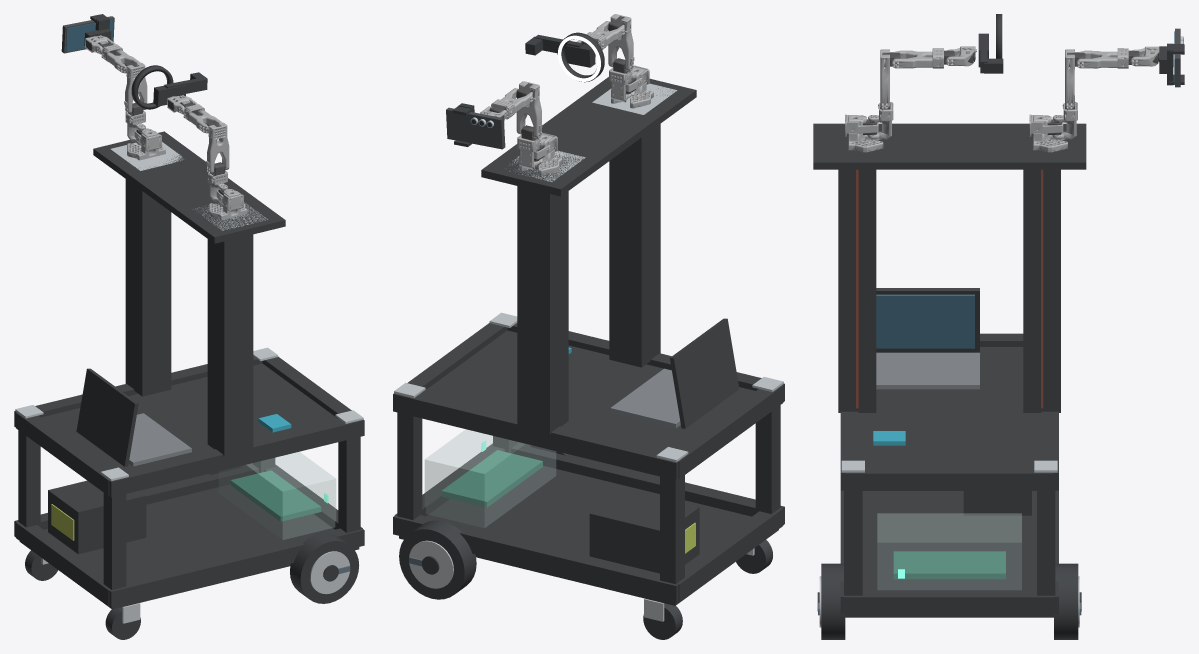
File: take-one-ring.glb
The picture shows the model from 3 angles, left to right: view 1: azimuth 30°, elevation 25°; view 2: azimuth 150°, elevation 25°; view 3: azimuth 270°, elevation 25°; orthographic projection. The views are drawn at different scales.
Visible parts, largest first — view 1: cart_box, upright_rear, upright_front, cart_work_deck, electronics_box, cart_deck, frame_side_0.25_0.49, frame_side_0.25_0.15, battery, laptop_lid, frame_end_-0.39_0.15, frame_end_-0.39_0.49 (+22 smaller); view 2: upright_front, cart_work_deck, upright_rear, cart_box, electronics_box, cart_deck, frame_side_-0.25_0.49, frame_side_-0.25_0.15, battery, laptop_lid, frame_side_0.25_0.15, frame_end_-0.39_0.15 (+22 smaller); view 3: cart_work_deck, cart_box, electronics_box, cart_deck, upright_rear, upright_front, laptop_screen, frame_end_0.39_0.15, frame_end_0.39_0.49, laptop_keyboard, electronics_board, corner_leg_-0.24_0.38 (+16 smaller).
Part boxes in pixels (x1,y1,x2,y2): cart_box: [19, 484, 359, 609]; upright_rear: [207, 234, 253, 456]; upright_front: [125, 179, 171, 396]; cart_work_deck: [41, 363, 337, 471]; electronics_box: [219, 452, 335, 539]; cart_deck: [93, 131, 285, 243]; frame_side_0.25_0.49: [104, 419, 364, 497]; frame_side_0.25_0.15: [109, 528, 364, 607]; battery: [48, 480, 146, 554]; laptop_lid: [76, 368, 138, 466]; frame_end_-0.39_0.15: [16, 522, 110, 605]; frame_end_-0.39_0.49: [16, 412, 110, 495]; upright_front: [517, 186, 568, 434]; cart_work_deck: [422, 330, 754, 450]; upright_rear: [609, 124, 660, 367]; cart_box: [399, 466, 778, 605]; electronics_box: [425, 429, 555, 527]; cart_deck: [481, 77, 696, 196]; frame_side_-0.25_0.49: [393, 392, 682, 480]; frame_side_-0.25_0.15: [393, 514, 678, 603]; battery: [589, 489, 699, 573]; laptop_lid: [670, 318, 739, 428]; frame_side_0.25_0.15: [511, 442, 784, 524]; frame_end_-0.39_0.15: [676, 508, 783, 601]; cart_work_deck: [858, 347, 1041, 465]; cart_box: [845, 491, 1053, 617]; electronics_box: [877, 513, 1021, 589]; cart_deck: [813, 123, 1086, 169]; upright_rear: [838, 169, 876, 412]; upright_front: [1023, 169, 1060, 412]; laptop_screen: [876, 294, 974, 348]; frame_end_0.39_0.15: [845, 589, 1053, 614]; frame_end_0.39_0.49: [845, 466, 1053, 490]; laptop_keyboard: [876, 352, 979, 389]; electronics_board: [893, 551, 1005, 579]; corner_leg_-0.24_0.38: [1037, 490, 1055, 595].
Size of the model in its own units: 0.824 by 1.56 by 0.9254.
